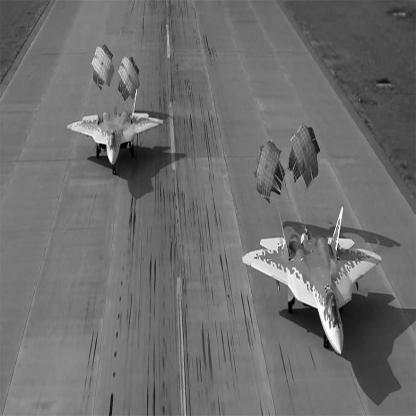Su57: (243, 206, 383, 357), (67, 88, 165, 176)
